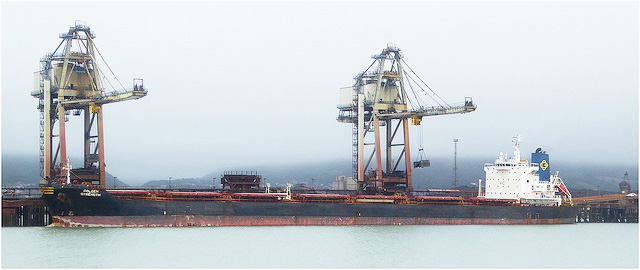bulk carrier: (40, 134, 579, 230)
